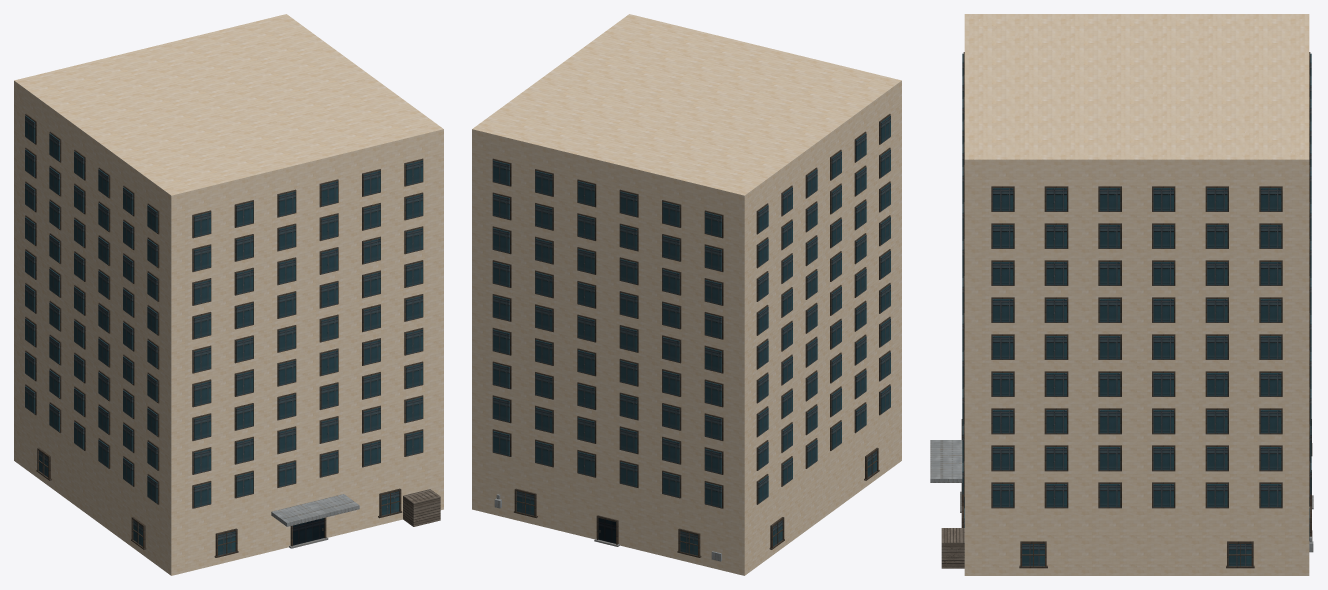
The model's file is corner-office_lod0.gltf.
3 views of the same model, side by side, from view 1: azimuth 30°, elevation 25°; view 2: azimuth 150°, elevation 25°; view 3: azimuth 270°, elevation 25° (orthographic). The views are drawn at different scales.
Visible parts, largest first — view 1: corner-office_main, corner-office_fen_07-glass-curtain-blue_1, corner-office_fen_12-bronze-metal_0, corner-office__canopy, corner-office__newsstand, corner-office_fen_07-glass-curtain-blue_2_t; view 2: corner-office_main, corner-office_fen_07-glass-curtain-blue_1, corner-office_fen_12-bronze-metal_0; view 3: corner-office_main, corner-office_fen_07-glass-curtain-blue_1, corner-office_fen_12-bronze-metal_0, corner-office__canopy, corner-office__newsstand.
Boxes of the visible parts, x1,y1,x2,y2 form: corner-office_main: (14, 14, 443, 575); corner-office_fen_07-glass-curtain-blue_1: (25, 115, 422, 555); corner-office_fen_12-bronze-metal_0: (25, 114, 423, 557); corner-office__canopy: (271, 494, 359, 526); corner-office__newsstand: (403, 489, 440, 526); corner-office_fen_07-glass-curtain-blue_2_t: (293, 518, 324, 545); corner-office_main: (472, 14, 901, 575); corner-office_fen_07-glass-curtain-blue_1: (493, 115, 890, 555); corner-office_fen_12-bronze-metal_0: (492, 114, 890, 557); corner-office_main: (964, 14, 1309, 575); corner-office_fen_07-glass-curtain-blue_1: (962, 53, 1311, 566); corner-office_fen_12-bronze-metal_0: (961, 52, 1312, 568); corner-office__canopy: (930, 440, 962, 482); corner-office__newsstand: (941, 528, 964, 568).
Bounding box in the file's own units: 30.55 × 40.02 × 33.4.
